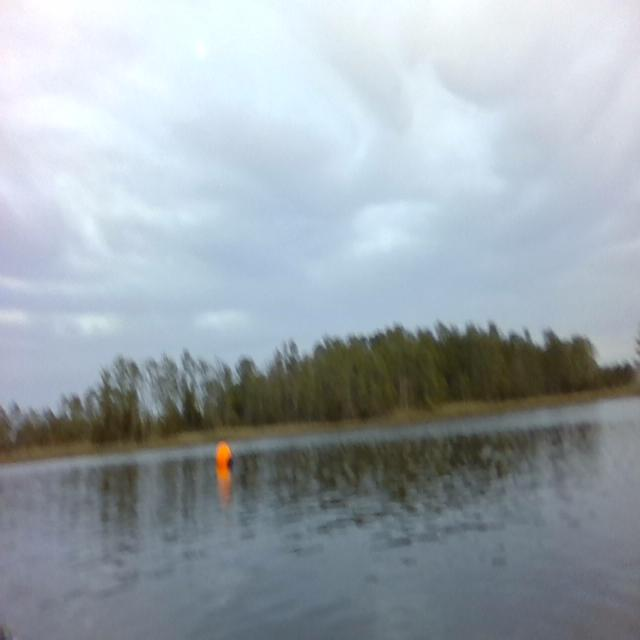Buoy: (212, 437, 236, 476)
